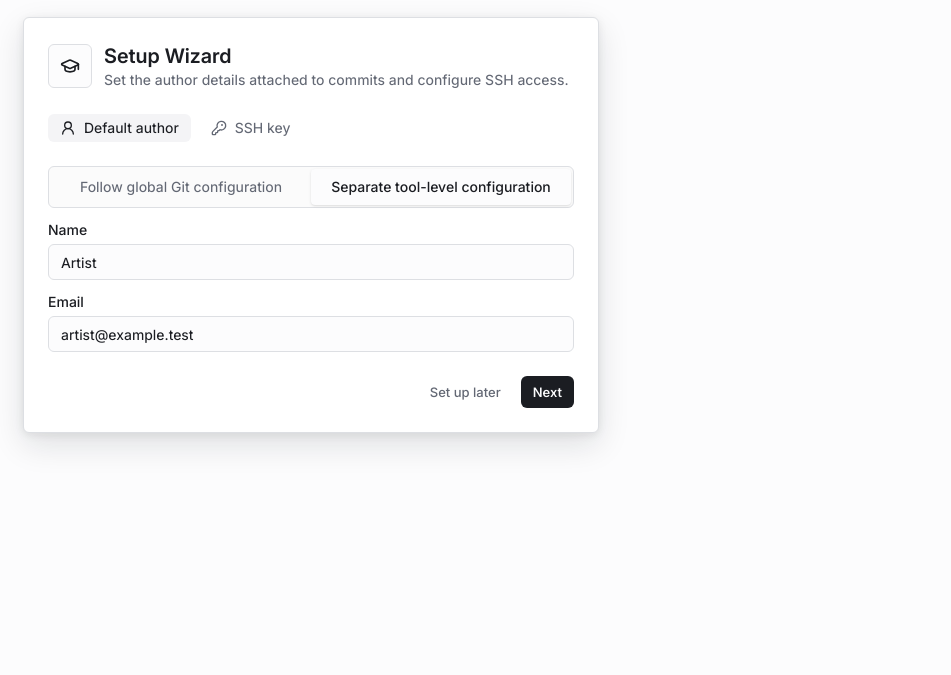
Test case: OnboardingWizard › shows copy failures as a toast and preserves the original error
Click the button "Next" at (547,392), box [521,376,574,408]
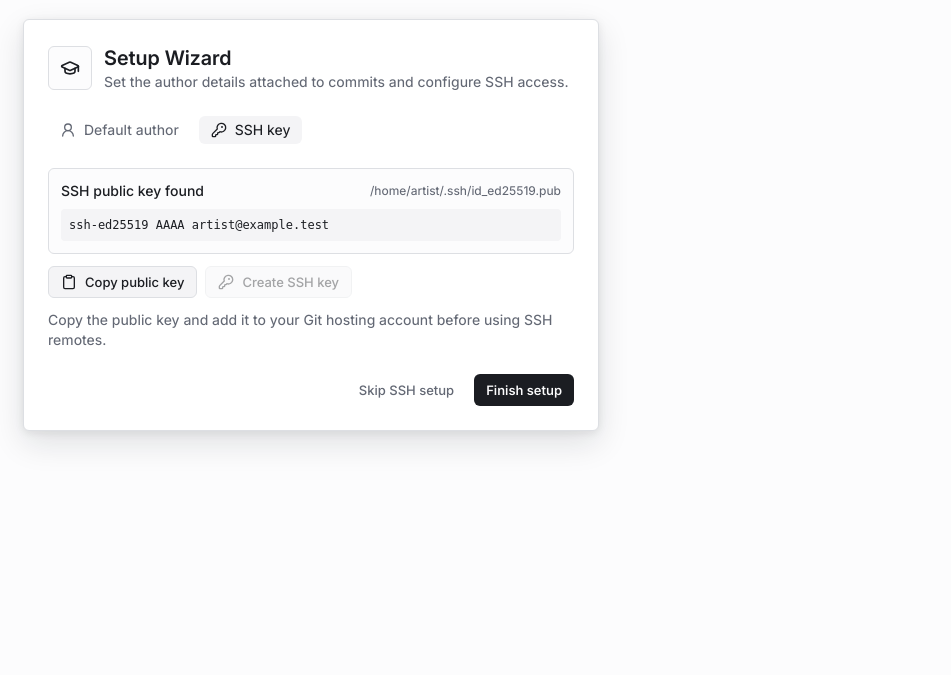
Click the button "Copy public key" at (123,282), box [48,266,197,298]
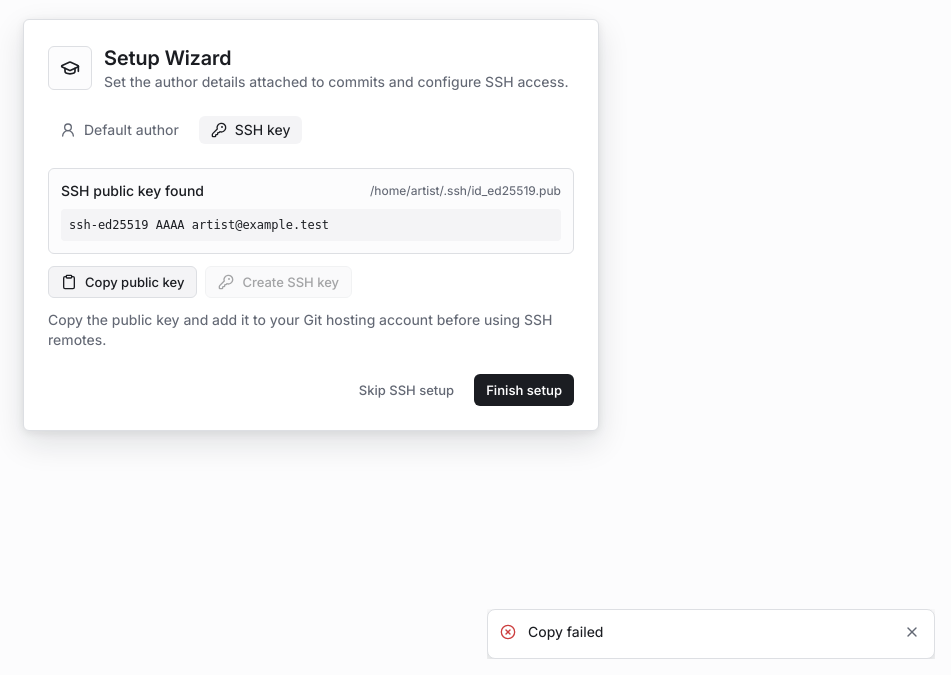
Expected: the text "Copy failed" is shown, [528,623,604,640]
